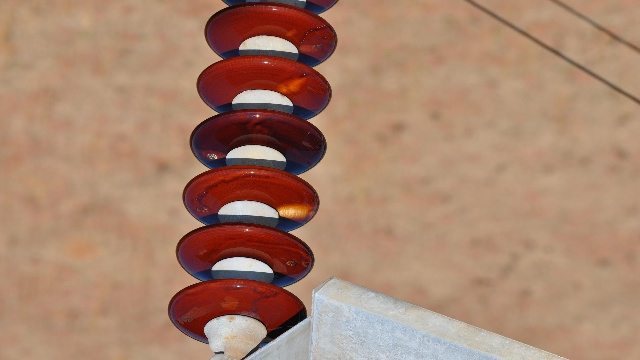insulator_unspecified: (167, 2, 338, 343)
pollution_flashover_local: (275, 200, 316, 222), (277, 72, 303, 94)
